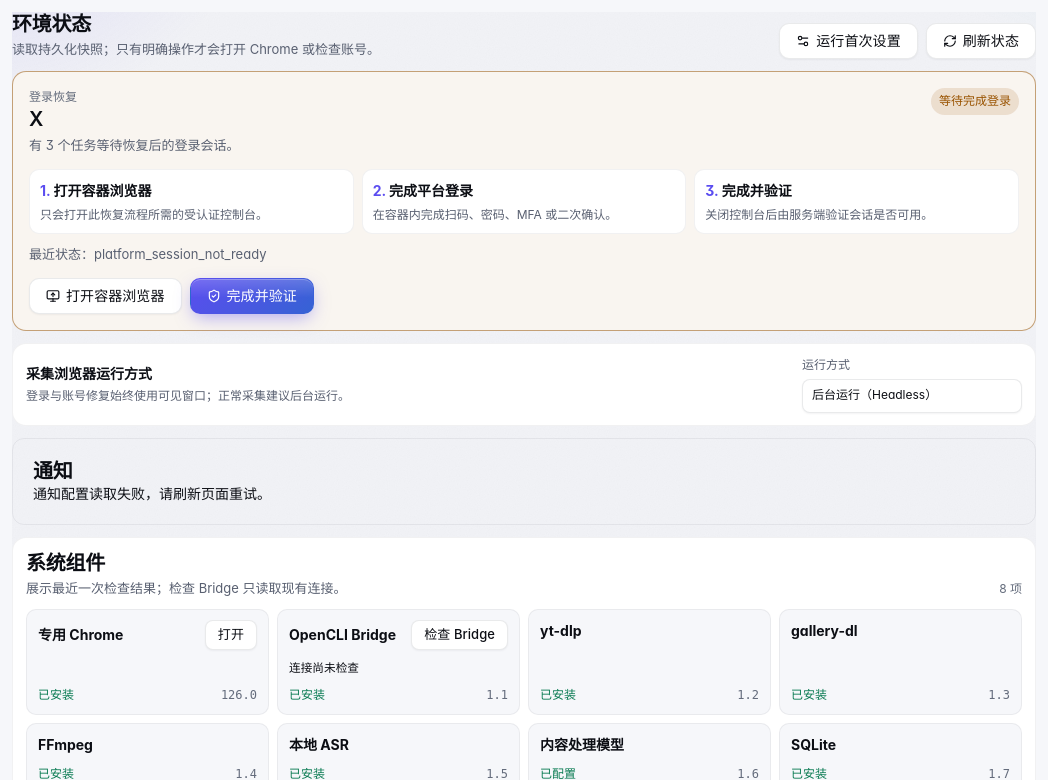
Test: CollectionEnvironmentModule › keeps a recovery actionable when server verification reports login not ready
The width and height of the screenshot is (1048, 780).
Check: the element "登录恢复" is shown, box [12, 71, 1036, 331]
Click the button "完成并验证" at [252, 296], box [190, 278, 314, 314]
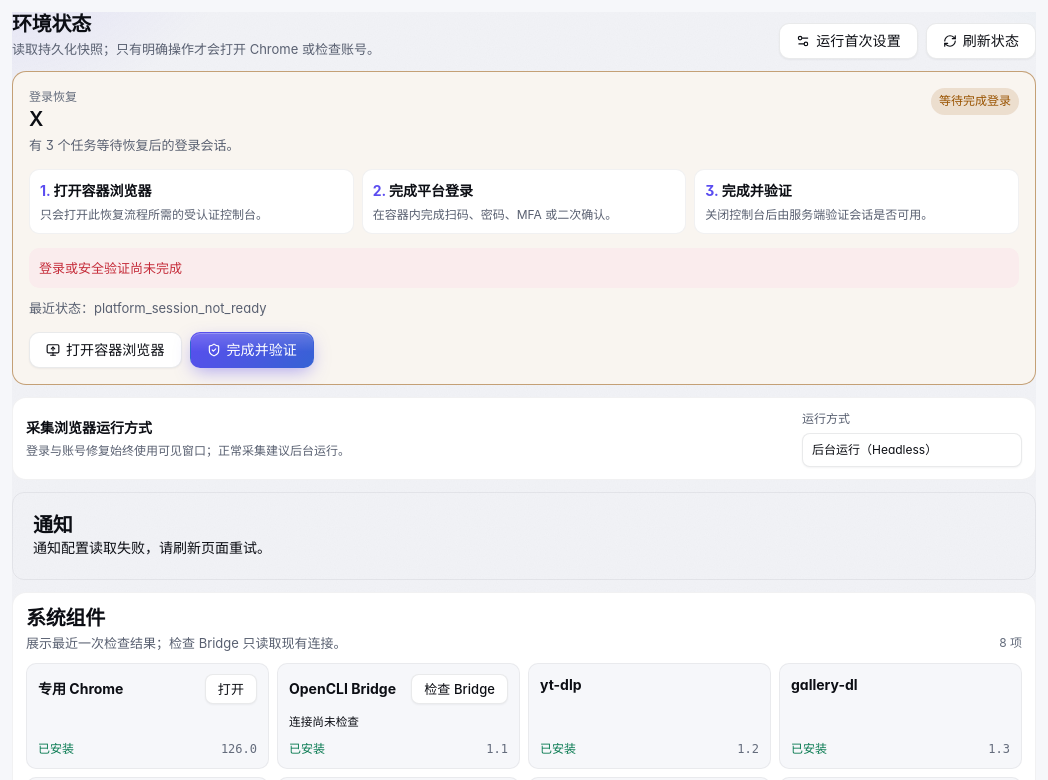
Check: the button "打开容器浏览器" is enabled, box [29, 332, 182, 368]
Check: the text "登录或安全验证尚未完成" is shown, box [29, 248, 1019, 288]
